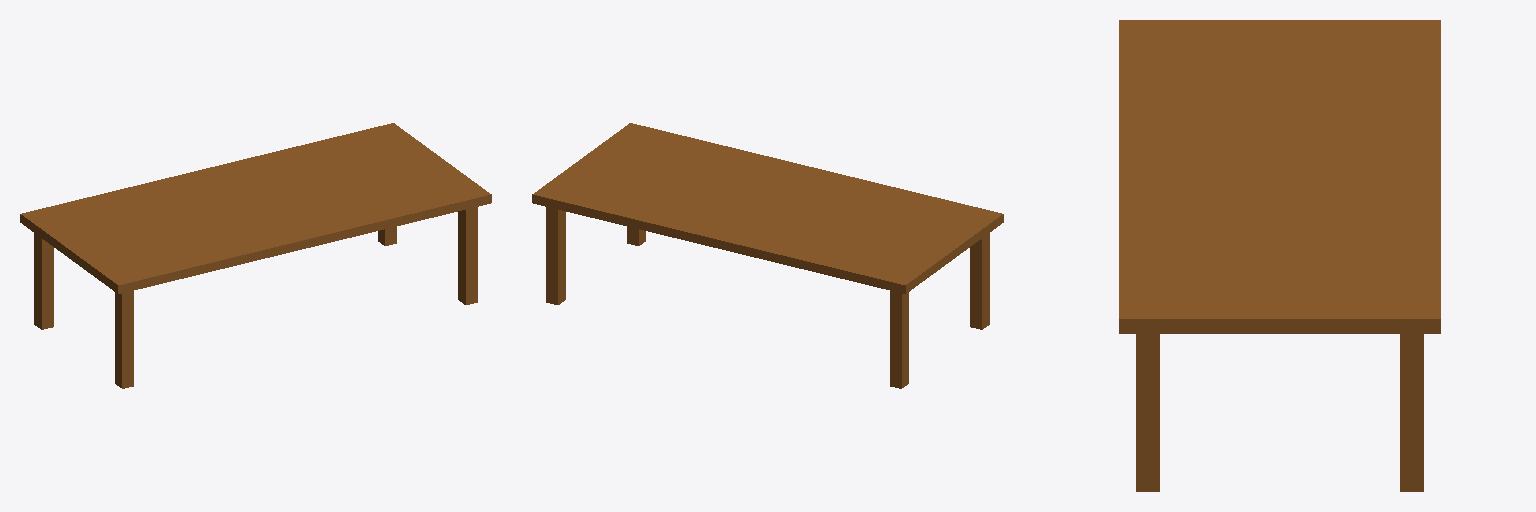
The robot description file, URDF, robot "generic_table":
<?xml version="1.0"?>
<robot name="generic_table">

  <link name="table_link">
  
    <visual>
      <origin xyz="0 0 0" rpy="0 0 0"/>
      <geometry>
        <mesh filename="package://Generic_Table/meshes/table_Generic_re.stl" scale="1.0 1.0 1.0"/>
      </geometry>
      <material name="wood">
        <color rgba="0.6 0.4 0.2 1.0"/>
      </material>
    </visual>

    <collision>
      <origin xyz="0 0 0" rpy="0 0 0"/>
      <geometry>
        <mesh filename="package://Generic_Table/meshes/table_Generic_re.stl" scale="1.0 1.0 1.0"/>
      </geometry>
    </collision>

    <inertial>
      <mass value="10.0"/>
      <origin xyz="0 0 0" rpy="0 0 0"/>
      <inertia
        ixx="0.1" ixy="0.0" ixz="0.0"
        iyy="0.1" iyz="0.0"
        izz="0.1"/>
    </inertial>
    
  </link>

</robot>

--- Render facts (derived) ---
Views: 3 orthographic renders of the robot side by side, from view 1: azimuth 30°, elevation 25°; view 2: azimuth 150°, elevation 25°; view 3: azimuth 270°, elevation 25°.
Model generic_table with 1 links and 0 joints (none), rooted at table_link, posed every joint at zero.
Links seen in each view (by area): view 1: table_link; view 2: table_link; view 3: table_link.
Boxes of the visible links, x1,y1,x2,y2 form: table_link: (20, 123, 491, 388); table_link: (532, 123, 1003, 388); table_link: (1119, 20, 1440, 491).
Size in the robot's own frame: 4.4 by 2 by 1.23 metres.
Meshes: 1 distinct files referenced, 1 mesh visuals loaded (1 binary STL).